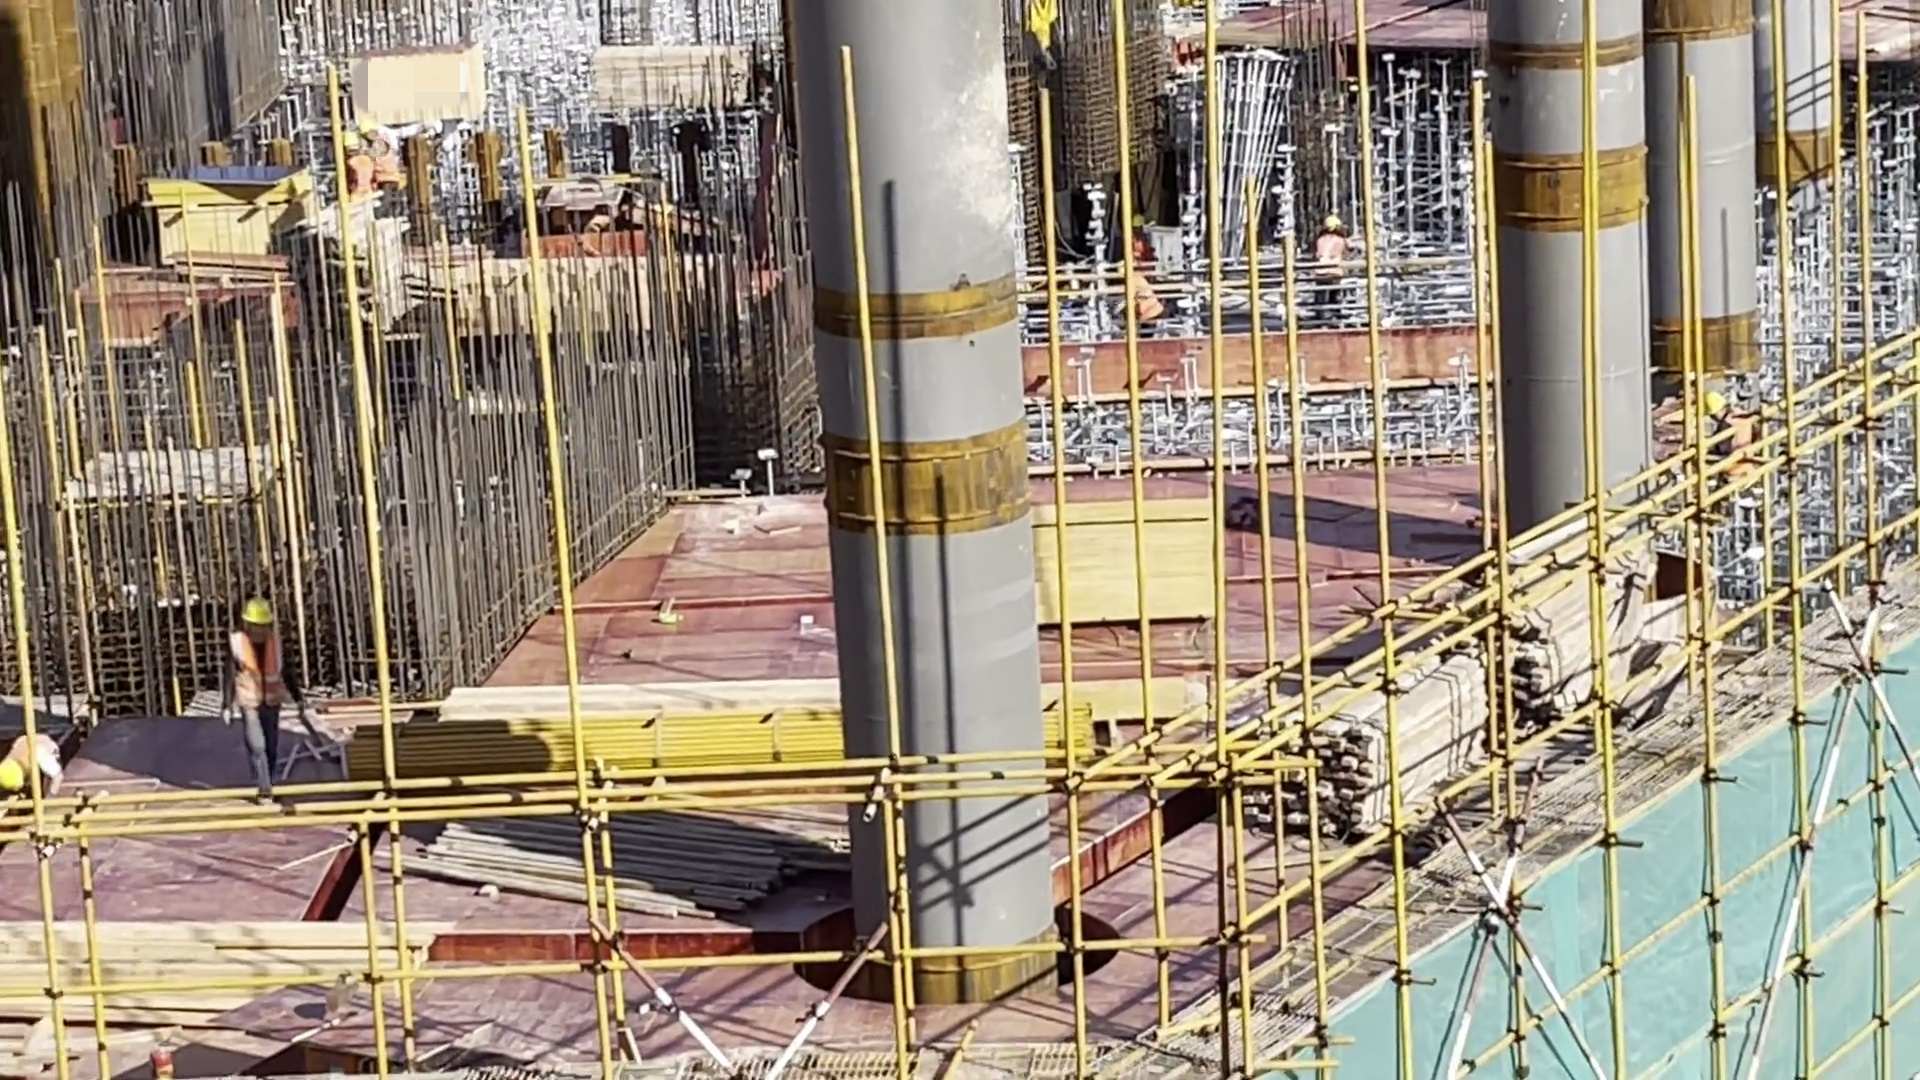helmet: (235, 592, 279, 644), (1, 756, 32, 796), (337, 117, 365, 154)
person: (222, 591, 318, 808), (1307, 212, 1352, 327), (362, 120, 405, 219), (1112, 256, 1160, 333), (339, 138, 372, 198)
vest: (228, 627, 288, 706), (1309, 233, 1342, 278)
